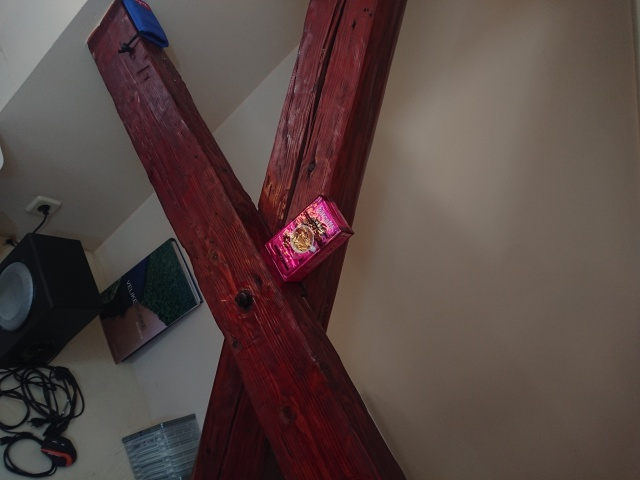Barcaffe Classic Original 225g: (263, 192, 357, 286)
